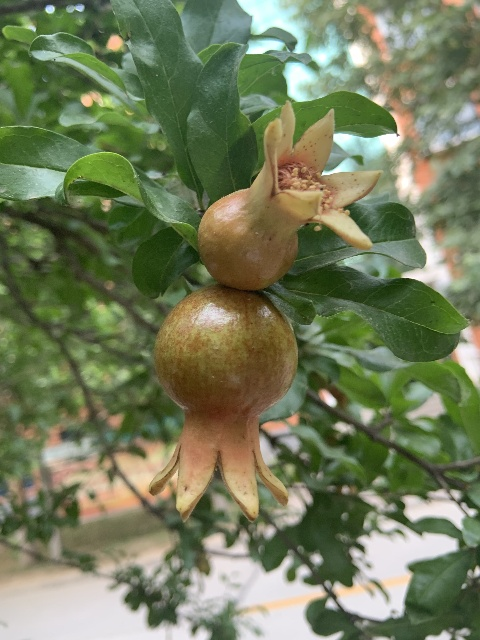early-fruit: (145, 284, 298, 524), (198, 99, 381, 290)
